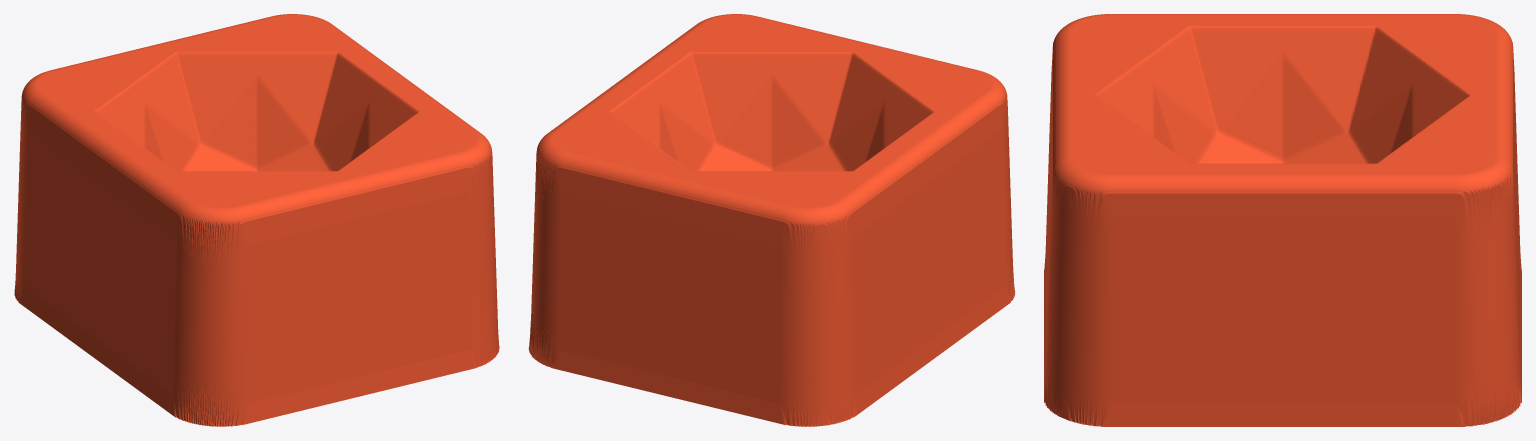
File: mold.glb
3 views of the same model, side by side, from view 1: azimuth 30°, elevation 25°; view 2: azimuth 150°, elevation 25°; view 3: azimuth 270°, elevation 25° (orthographic). The views are drawn at different scales.
Visible parts, largest first — view 1: geometry_0; view 2: geometry_0; view 3: geometry_0.
Part boxes in pixels (x1,y1,x2,y2): geometry_0: (14, 14, 499, 426); geometry_0: (528, 14, 1015, 426); geometry_0: (1044, 14, 1521, 426).
Bounding box in the file's own units: 0.0582 × 0.0363 × 0.065.
